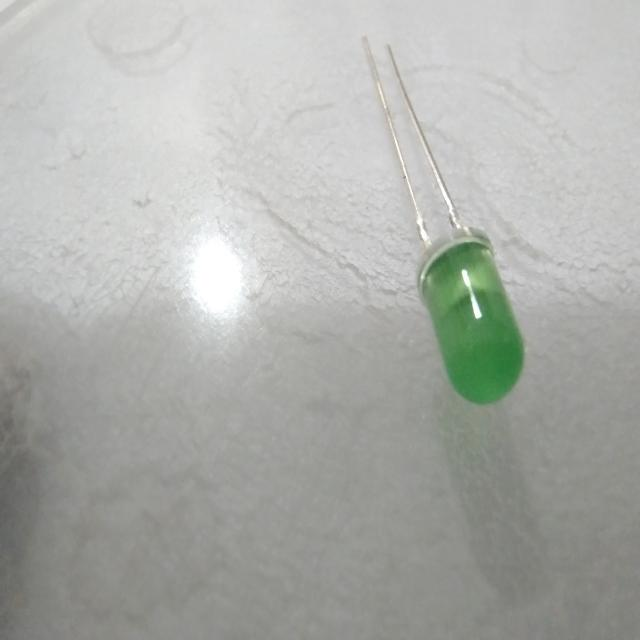green_led: (403, 213, 535, 412)
